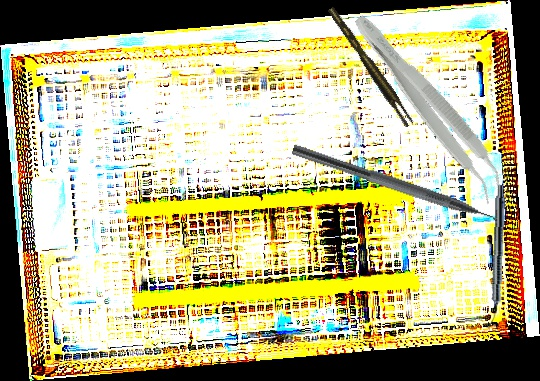Chopper: (286, 143, 511, 241)
Handpiece: (488, 184, 506, 327)
Tissue Forceps: (340, 8, 516, 207), (327, 3, 415, 130)
